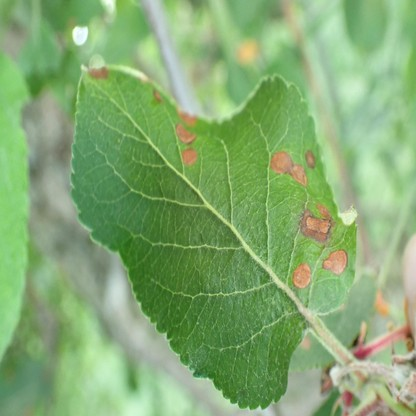frogeye: (301, 203, 336, 241), (270, 152, 308, 185), (323, 248, 347, 276), (293, 261, 311, 287), (175, 123, 196, 144), (177, 106, 196, 125), (181, 147, 197, 165), (89, 66, 108, 79), (305, 149, 314, 168), (153, 89, 162, 106)
